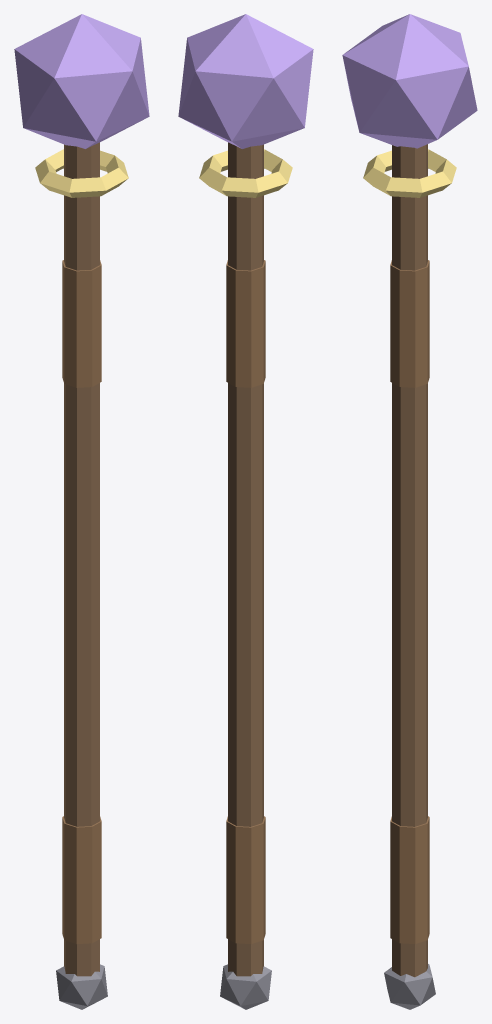
Rendered from wpn_arcane_staff.glb.
3 renders of one model, left to right at view 1: azimuth 30°, elevation 25°; view 2: azimuth 150°, elevation 25°; view 3: azimuth 330°, elevation 25°, orthographic.
Parts seen in each view (by area): view 1: Weapon_ArcaneStaff; view 2: Weapon_ArcaneStaff; view 3: Weapon_ArcaneStaff.
Part boxes in pixels (box(x1,y1,x2,y2)): Weapon_ArcaneStaff: box(14, 14, 149, 1009); Weapon_ArcaneStaff: box(178, 14, 313, 1009); Weapon_ArcaneStaff: box(342, 14, 477, 1009).
Size of the model in its own units: 0.2326 by 1.88 by 0.2212.
